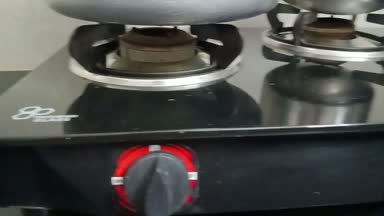noflame_gason: (63, 17, 243, 216)
